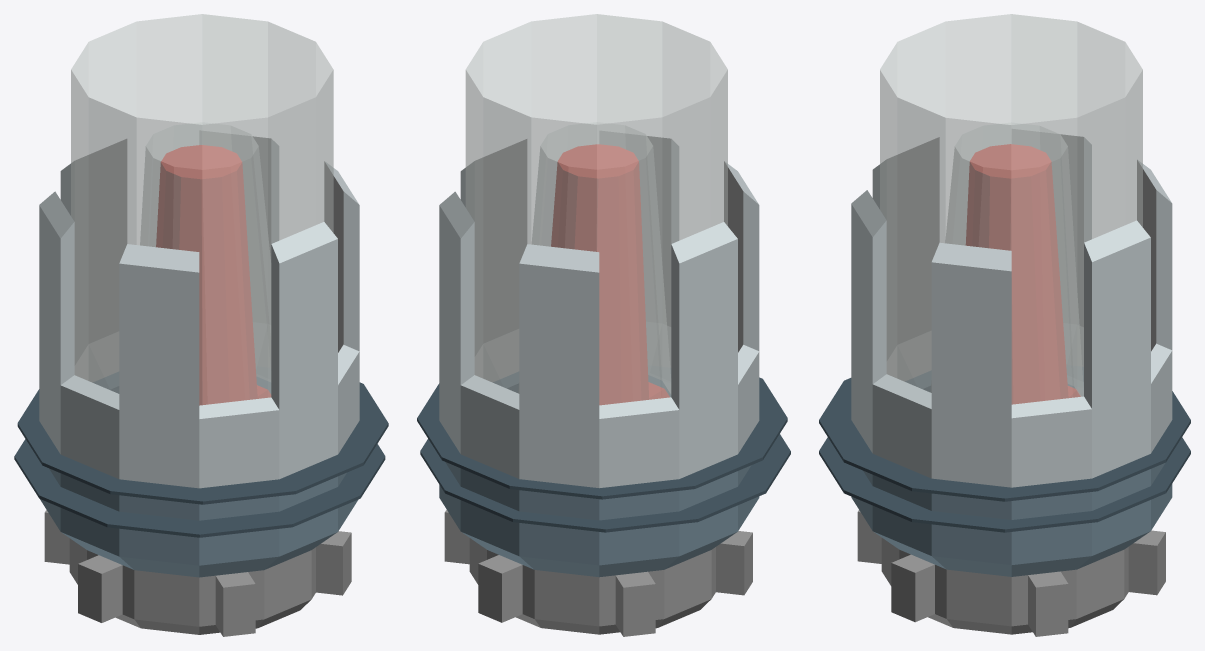
Rendered from Beacon.glb.
3 views of the same model, side by side, from view 1: azimuth 30°, elevation 25°; view 2: azimuth 150°, elevation 25°; view 3: azimuth 270°, elevation 25° (orthographic).
Visible parts, largest first — view 1: group967945256, group947502957, group131639687, group5835976, group1145913003; view 2: group967945256, group947502957, group131639687, group5835976, group1145913003; view 3: group967945256, group947502957, group131639687, group5835976, group1145913003.
Boxes of the visible parts, box(x1,y1,x2,y2) form: group967945256: box(39, 136, 359, 636); group947502957: box(71, 14, 333, 405); group131639687: box(156, 145, 270, 405); group5835976: box(17, 372, 388, 504); group1145913003: box(14, 439, 385, 537); group967945256: box(439, 136, 759, 636); group947502957: box(465, 14, 727, 405); group131639687: box(551, 144, 669, 404); group5835976: box(417, 368, 787, 499); group1145913003: box(420, 434, 790, 532); group967945256: box(851, 134, 1172, 636); group947502957: box(880, 14, 1142, 404); group131639687: box(966, 144, 1080, 404); group5835976: box(819, 367, 1190, 501); group1145913003: box(819, 437, 1190, 532).
Bounding box in the file's own units: 1.05 × 1.6 × 1.04.
